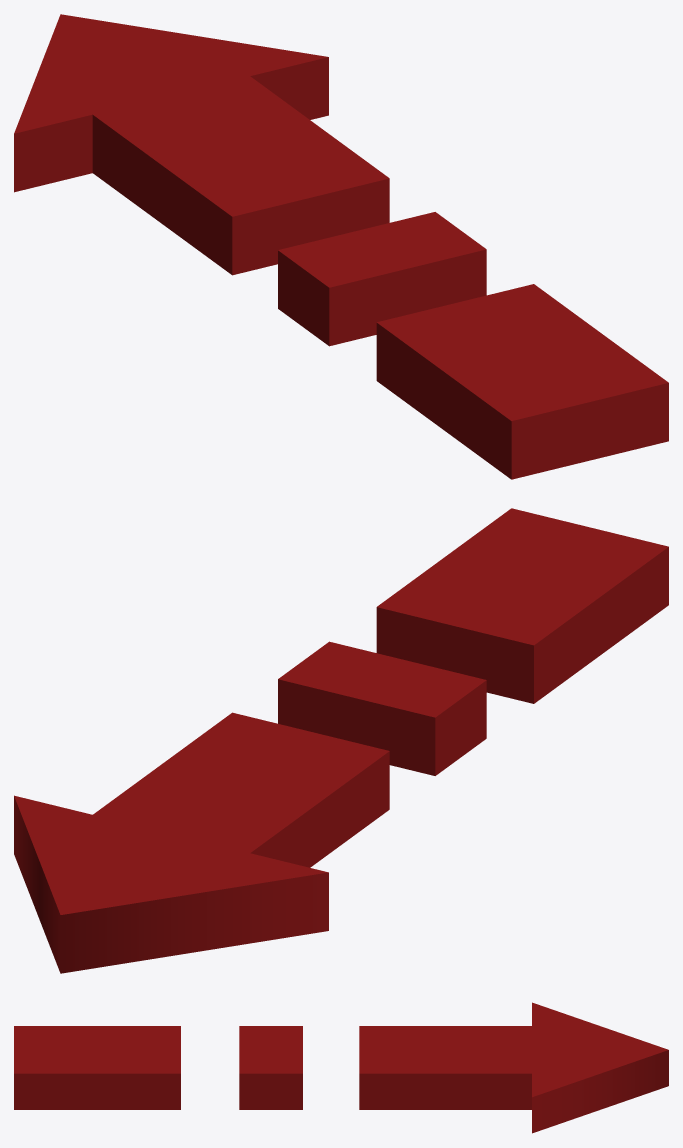
Rendered from CZB_3D_Attack_Arrow_S1.FBX.
3 views of the same model, one above another, from view 1: azimuth 30°, elevation 25°; view 2: azimuth 150°, elevation 25°; view 3: azimuth 270°, elevation 25° (orthographic). The views are drawn at different scales.
Parts seen in each view (by area): view 1: Attack Arrow, Attack Arrow Long Box, Attack Arrow Regular Box; view 2: Attack Arrow, Attack Arrow Long Box, Attack Arrow Regular Box; view 3: Attack Arrow, Attack Arrow Long Box, Attack Arrow Regular Box.
Boxes of the visible parts, x1,y1,x2,y2 form: Attack Arrow: [14, 14, 389, 275]; Attack Arrow Long Box: [376, 284, 668, 479]; Attack Arrow Regular Box: [278, 212, 486, 346]; Attack Arrow: [14, 712, 389, 973]; Attack Arrow Long Box: [376, 508, 668, 703]; Attack Arrow Regular Box: [278, 641, 486, 775]; Attack Arrow: [359, 1002, 668, 1133]; Attack Arrow Long Box: [14, 1026, 180, 1109]; Attack Arrow Regular Box: [239, 1026, 302, 1109].
Bounding box in the file's own units: 19.54 × 3.47 × 56.92.
